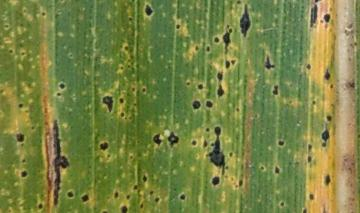tarspot: (51, 119, 71, 208), (204, 126, 227, 177), (220, 24, 238, 72), (237, 3, 253, 40), (215, 72, 227, 99), (308, 3, 319, 29), (101, 95, 115, 113), (263, 54, 277, 71), (166, 132, 180, 148), (143, 2, 156, 19), (320, 10, 331, 27), (152, 133, 165, 147), (320, 128, 332, 143), (98, 139, 110, 153), (191, 99, 202, 111), (323, 173, 332, 187), (56, 81, 68, 91), (14, 133, 25, 143), (79, 193, 90, 203), (210, 176, 221, 186), (204, 99, 214, 110), (305, 154, 315, 165), (323, 69, 332, 81), (271, 84, 279, 95), (307, 142, 315, 153), (119, 205, 129, 213), (237, 178, 245, 188), (229, 58, 237, 68), (273, 165, 281, 175), (112, 190, 119, 201), (66, 190, 74, 199), (178, 193, 186, 202), (324, 114, 333, 122), (277, 138, 285, 147), (202, 139, 209, 149), (20, 170, 28, 178), (196, 83, 204, 91), (319, 142, 328, 149), (308, 192, 315, 201), (138, 202, 145, 210), (259, 164, 266, 172), (320, 205, 328, 212), (154, 196, 160, 205), (213, 35, 219, 44), (305, 63, 311, 72), (40, 11, 47, 18), (37, 203, 44, 210), (193, 44, 200, 51), (279, 200, 286, 207), (119, 111, 125, 119), (141, 174, 147, 182), (190, 140, 198, 146), (205, 45, 211, 53), (311, 99, 317, 107), (100, 209, 111, 213), (55, 92, 62, 98), (127, 16, 134, 22), (118, 97, 125, 103), (140, 87, 146, 94), (132, 184, 138, 191), (174, 24, 181, 30), (105, 154, 113, 159), (21, 158, 27, 164), (128, 155, 134, 161), (204, 127, 210, 133), (228, 151, 234, 157), (185, 81, 191, 87), (235, 107, 241, 113), (328, 84, 334, 90), (124, 194, 131, 199), (17, 103, 23, 108), (20, 51, 26, 56), (123, 46, 129, 51), (119, 65, 125, 70), (149, 190, 154, 196), (301, 206, 306, 212), (225, 165, 229, 171), (8, 50, 13, 54), (131, 87, 135, 92)
